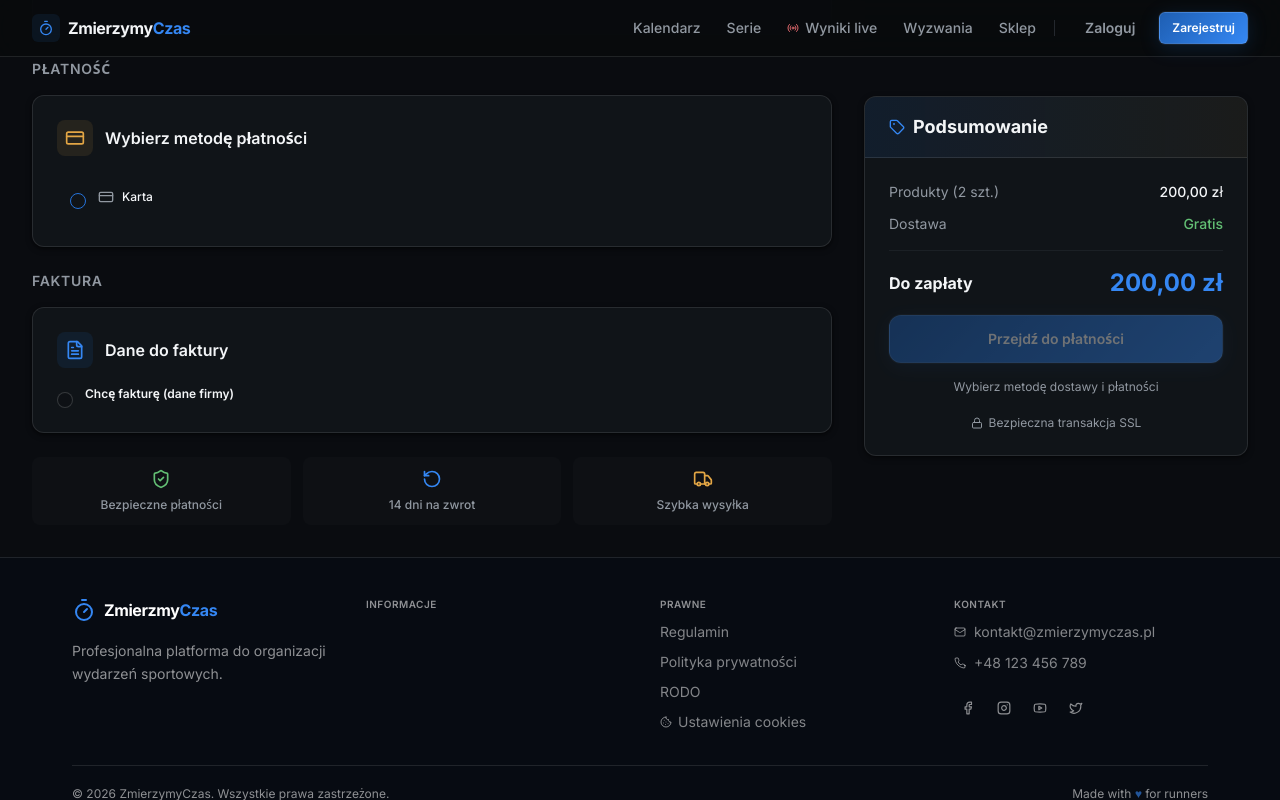
Scenario: CartPage checkout › invoice data › shows the invoice fieldset once the toggle is checked, and hides it again when unchecked
The width and height of the screenshot is (1280, 800).
(page scrolled)
Click the checkbox named "Chcę fakturę (dane firmy)": (65, 400) [57,392,73,408]
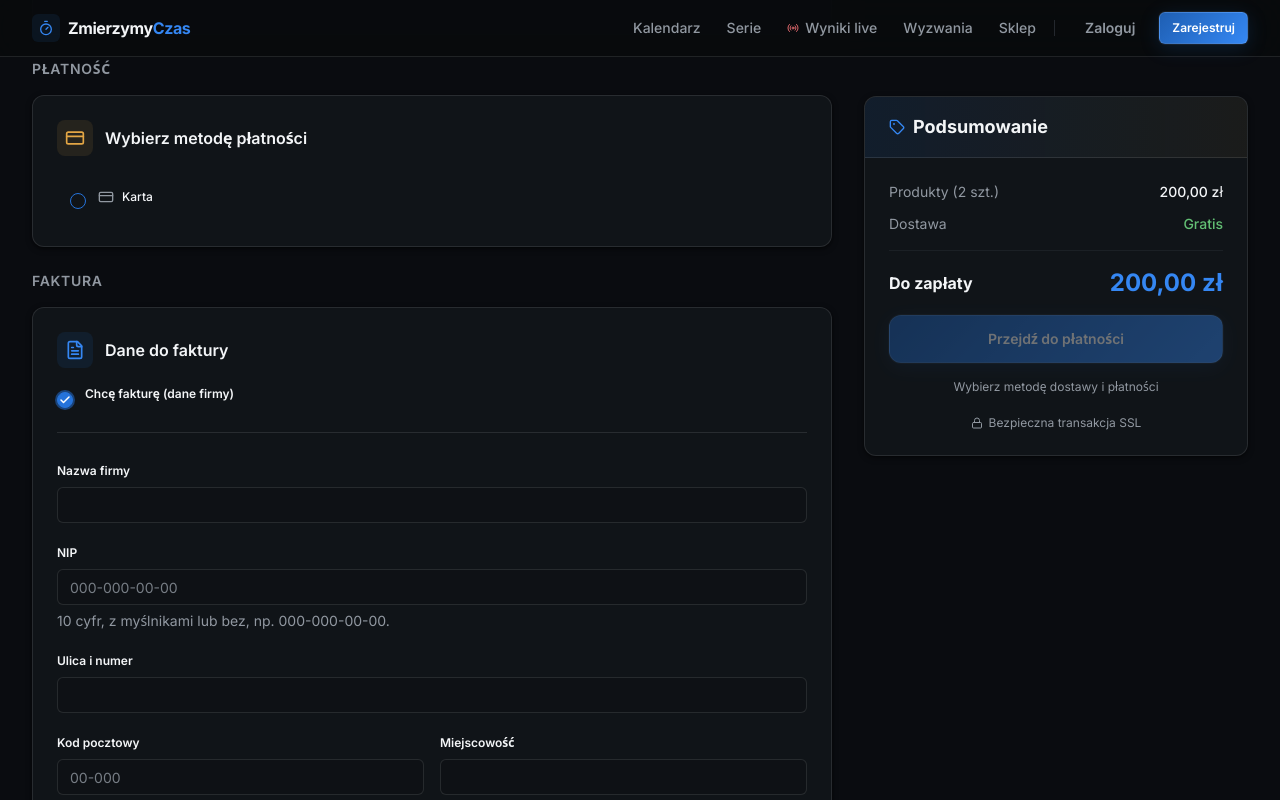
Result: the field labelled "Nazwa firmy" is shown at [57,487,807,523]
Result: the field labelled "NIP" is shown at [57,569,807,605]
Click the checkbox named "Chcę fakturę (dane firmy)": (65, 400) [57,392,73,408]
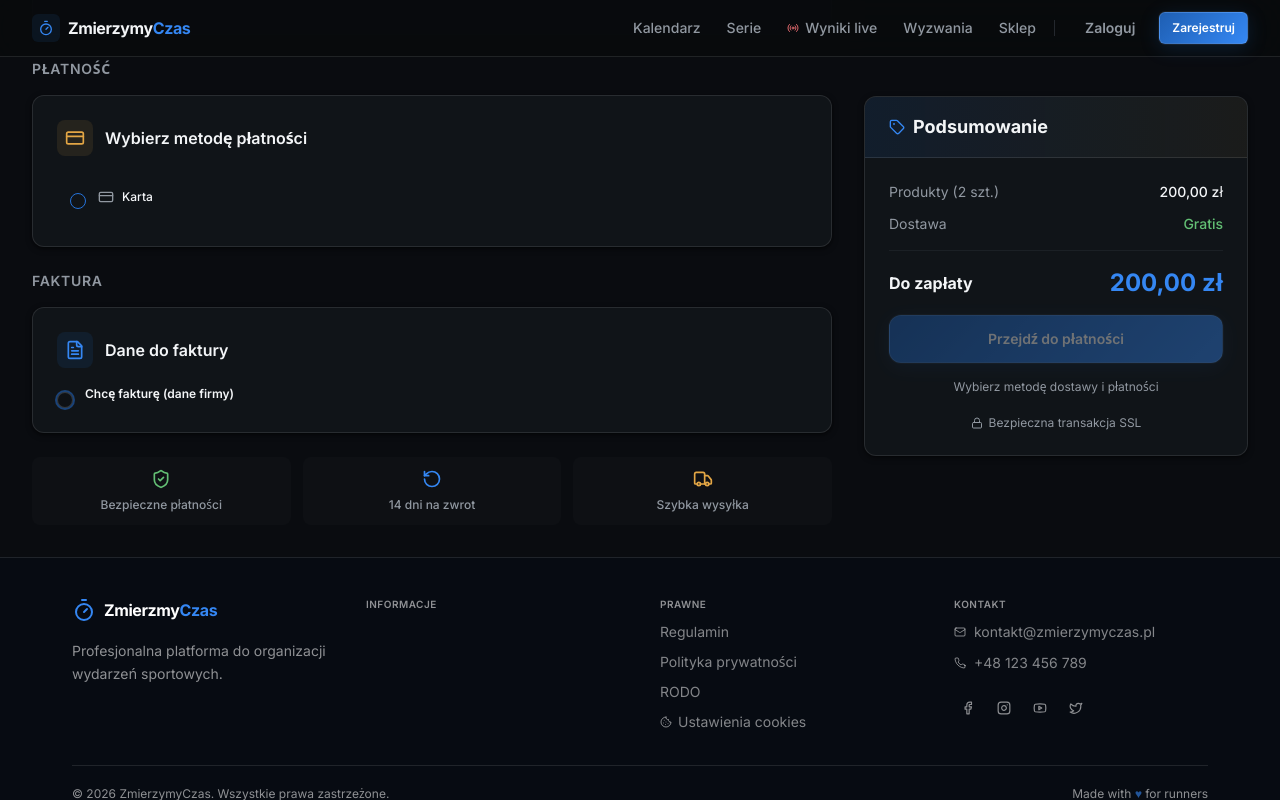
Result: the label labelled "Nazwa firmy" is gone
